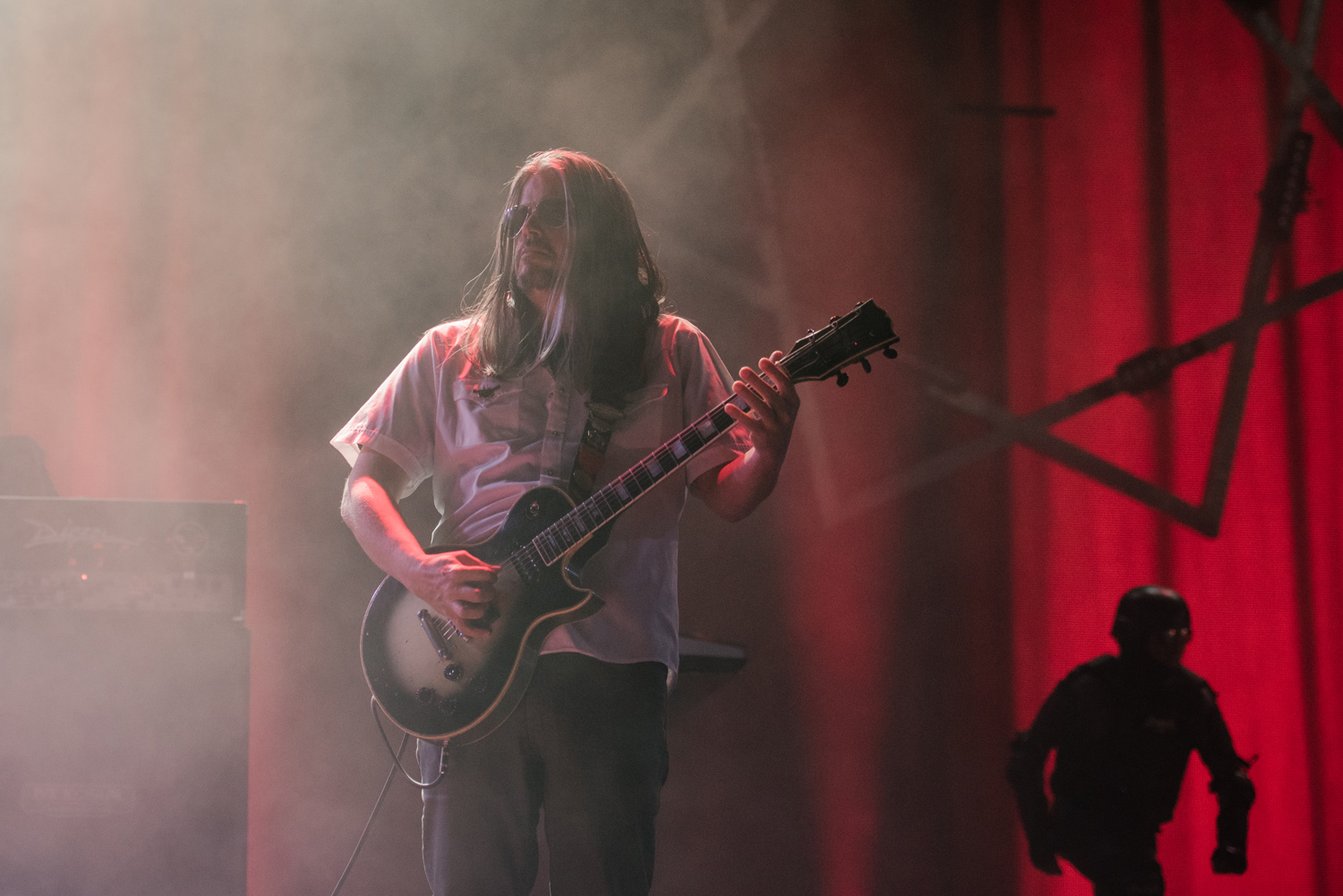acousticguitar: (362, 296, 900, 744)
